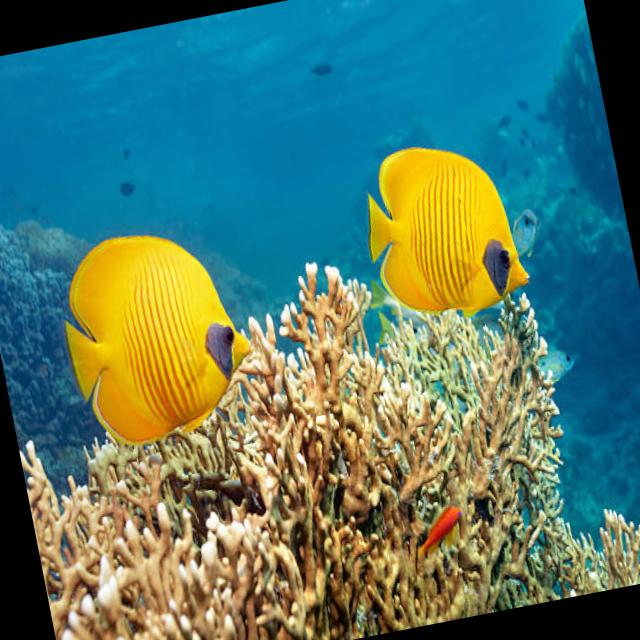ButterflyFish: (53, 217, 266, 453), (354, 130, 532, 326)
